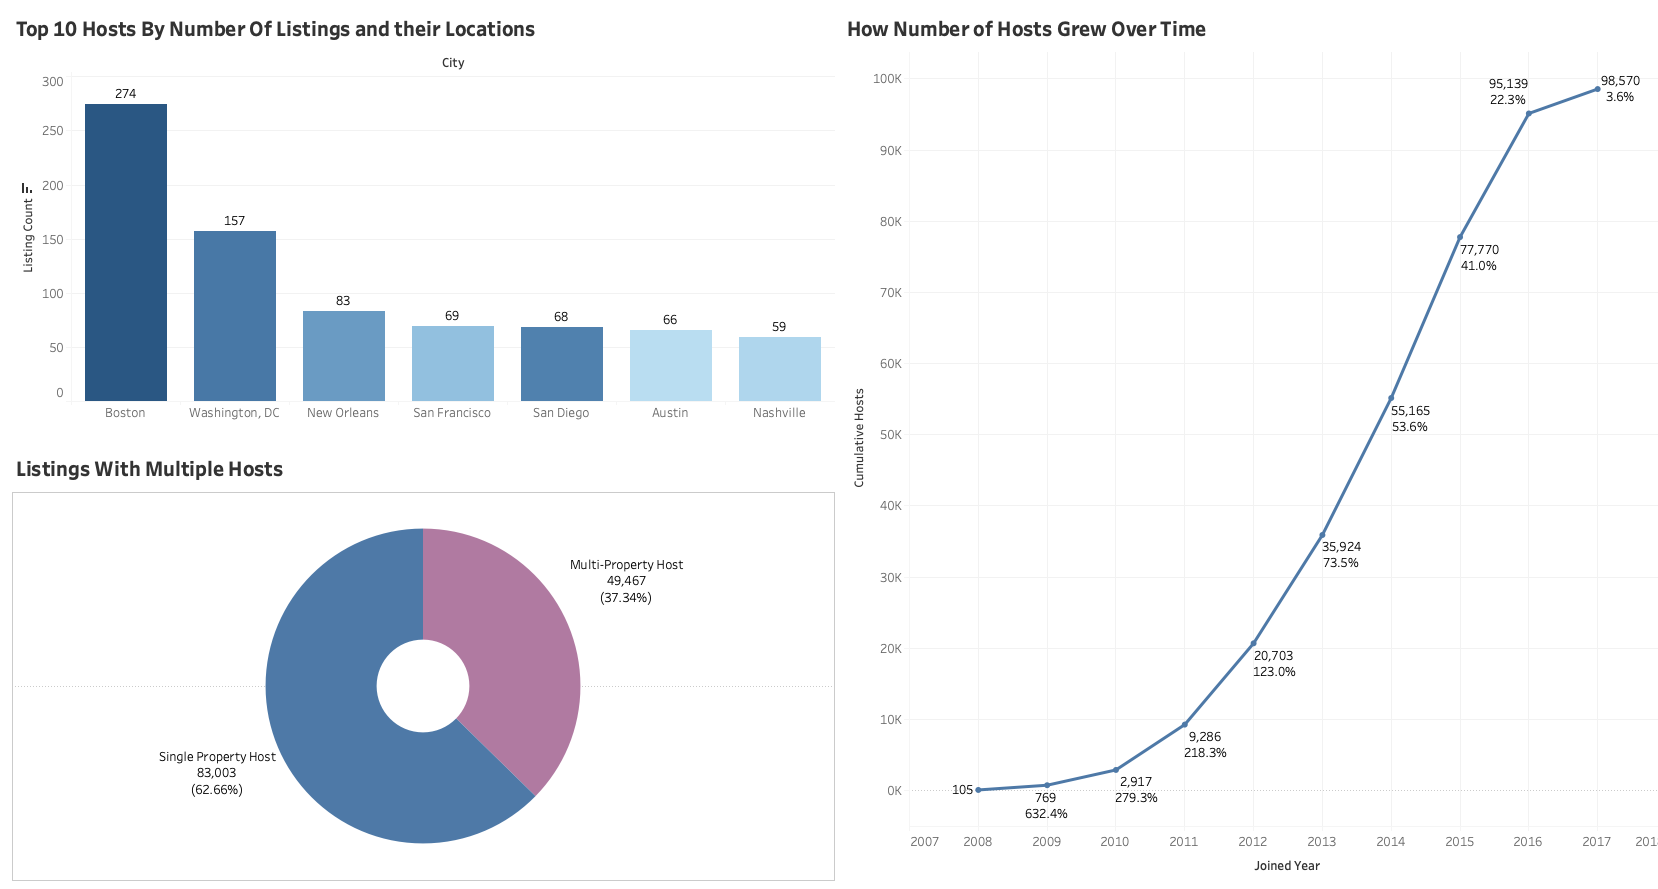

Layout of this report page (visuals, bound fields, positions):
{"tool":"tableau","page":{"name":"Hosts Dynamics","canvas":[1000,1000],"units":"permille","ordinal":0},"visuals":[{"type":"worksheet","title":"Sheet 8","mark":"Automatic","rows":["listing_count"],"cols":["city"],"box":[4.7,8.9,452,491.1]},{"type":"worksheet","title":"Sheet 3","mark":"Automatic","rows":["cumulative_hosts"],"cols":["joined_year"],"box":[456.7,8.9,452,982.1]},{"type":"legend","title":"Sheet 7","param":"[federated.07j8wme10njc9u18maol11569aus].[none:host_type:nk]","box":[908.7,8.9,86.6,73.7]},{"type":"legend","title":"Sheet 8","param":"[federated.1822ea10lbur7617dd0id0byqro6].[none:city:nk]","box":[908.7,82.7,86.6,193.3]},{"type":"worksheet","title":"Sheet 7","mark":"Pie","rows":["Calculation_3504363506089029633","Calculation_3504363506089029633"],"box":[4.7,500,452,491.1]}]}

Visuals, with their boxes on the dashboard's canvas, which has no fixed pixel size, in thousandths of its width and height (x1, y1, x2, y2). These are canvas units, not pixel positions in the 1658x889 screenshot, which may show the page scaled, cropped or inside an application window:
"Sheet 8" worksheet: [x1=5, y1=9, x2=457, y2=500]
"Sheet 3" worksheet: [x1=457, y1=9, x2=909, y2=991]
"Sheet 7" legend: [x1=909, y1=9, x2=995, y2=83]
"Sheet 8" legend: [x1=909, y1=83, x2=995, y2=276]
"Sheet 7" worksheet (Pie marks): [x1=5, y1=500, x2=457, y2=991]
